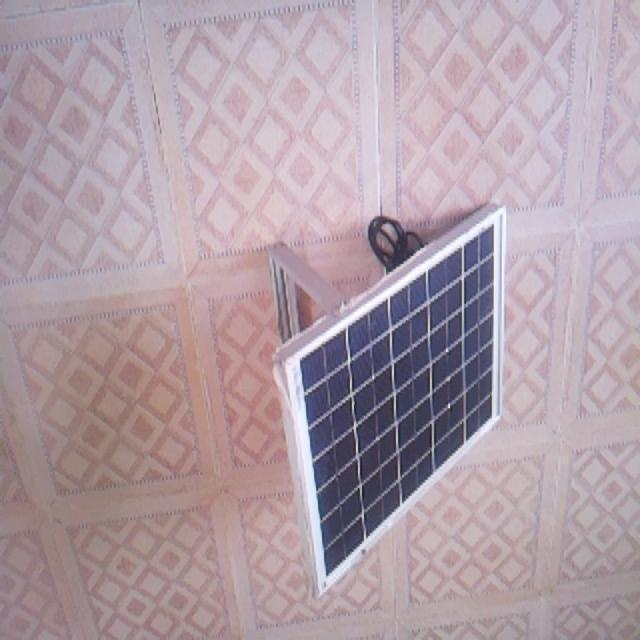Normal Solar Panel: (276, 210, 505, 583)
